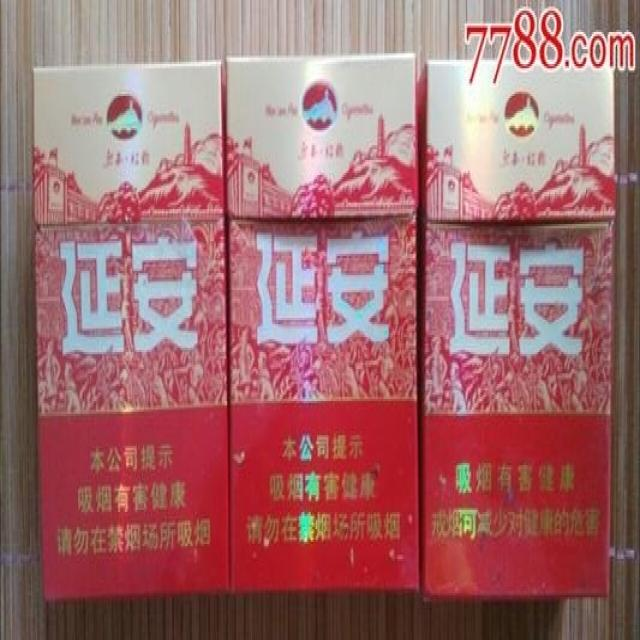box: (418, 58, 615, 602), (32, 62, 229, 604), (225, 51, 420, 593)
